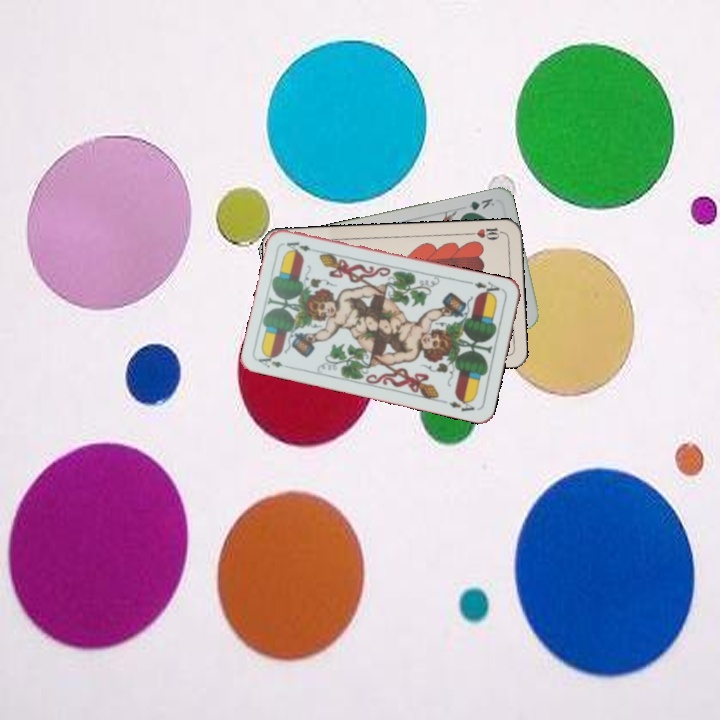EA: (465, 277, 505, 299), (254, 350, 294, 372)
GK: (459, 194, 497, 217)
H10: (465, 224, 506, 242)
